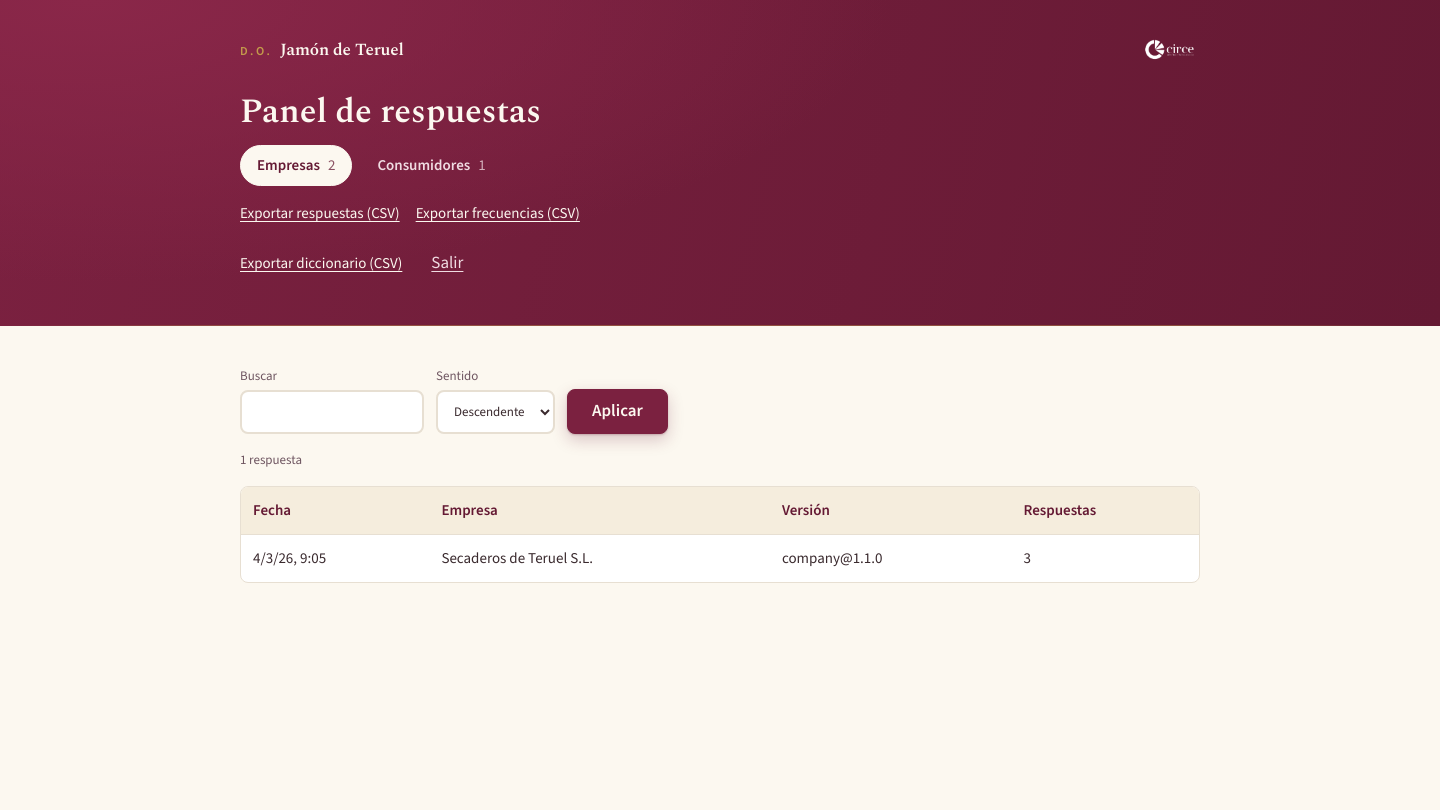
Test: the admin panel › logs out and returns to the login screen
This screenshot has width=1440, height=810.
Expected: the button "4/3/26, 9:05 Secaderos de Teruel S.L. company@1.1.0 3" is shown, [241, 535, 1199, 582]
Step 1. Click the button "Salir" → coordinates (447, 263), box [418, 241, 476, 286]
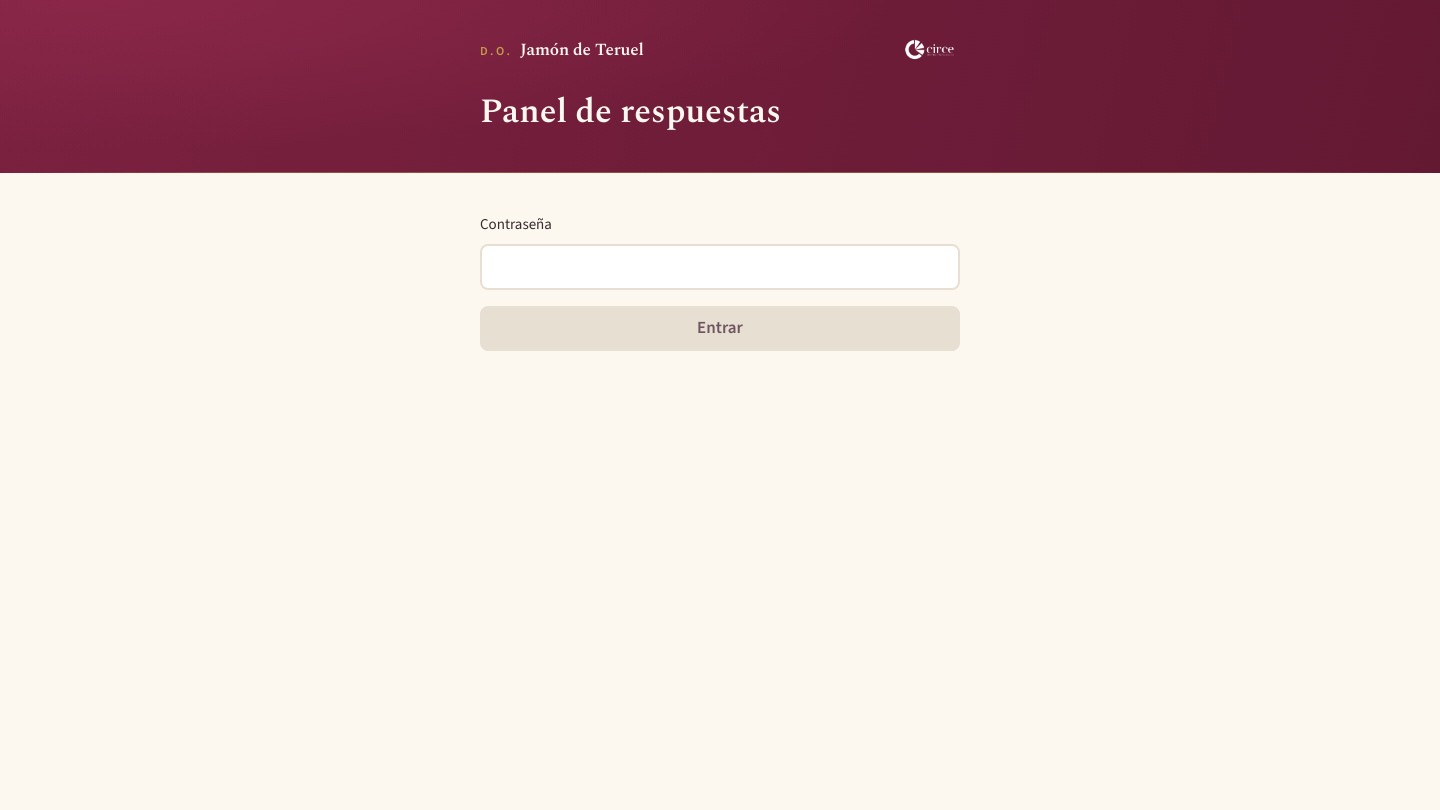
Result: the button "Entrar" is shown at [480, 306, 960, 351]
